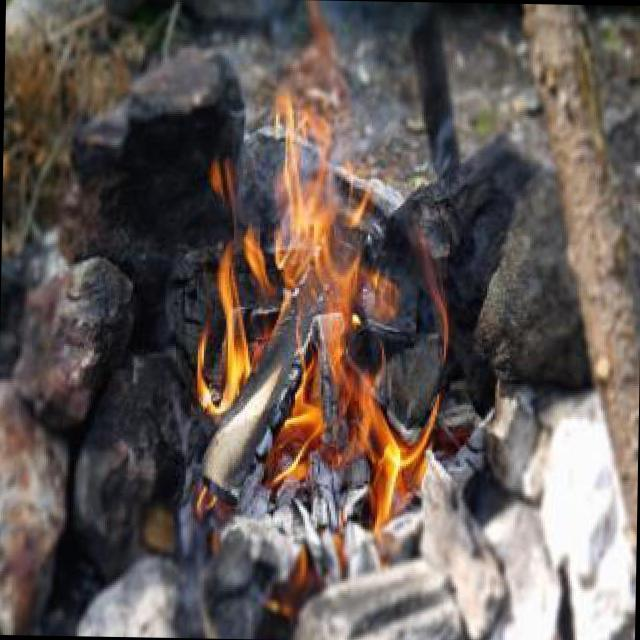Fire: (194, 93, 451, 532)
